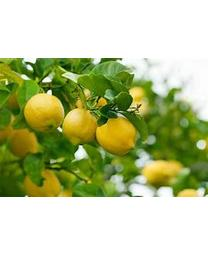lemon: (96, 115, 137, 156), (25, 93, 65, 133), (62, 107, 97, 147)
